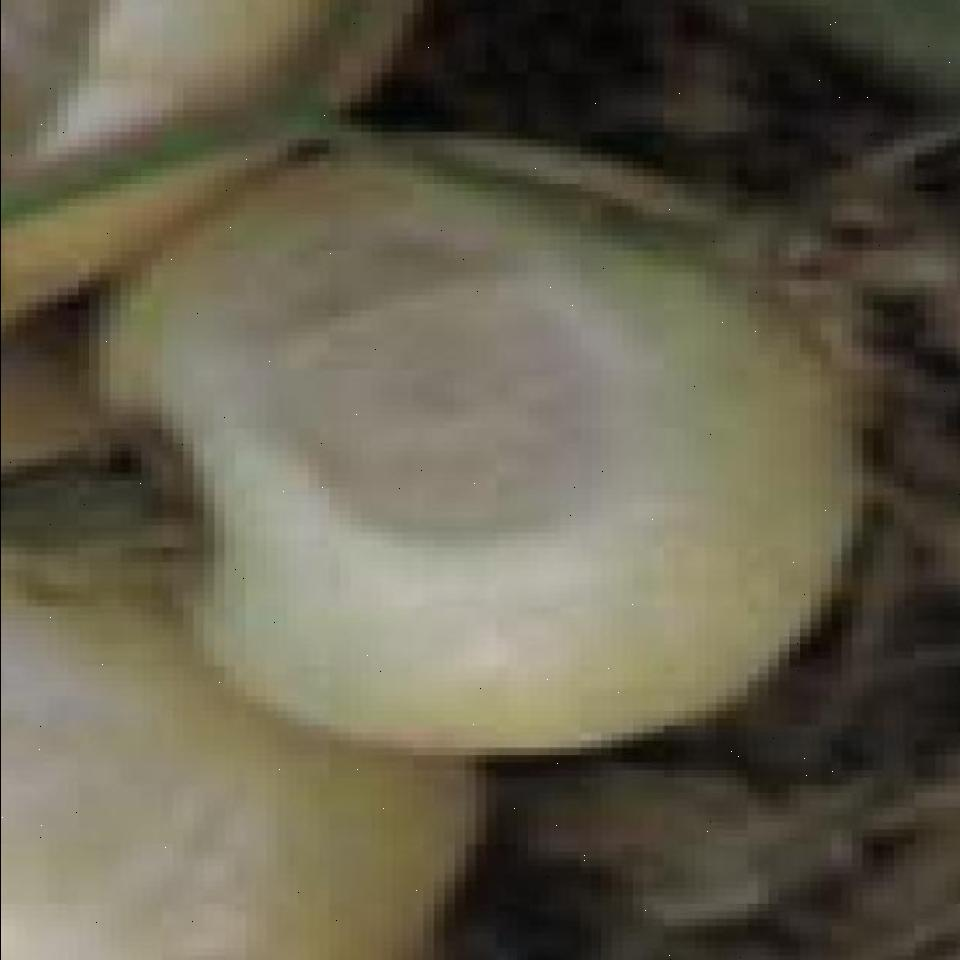Sunscald: (156, 184, 606, 548), (19, 580, 298, 960)
